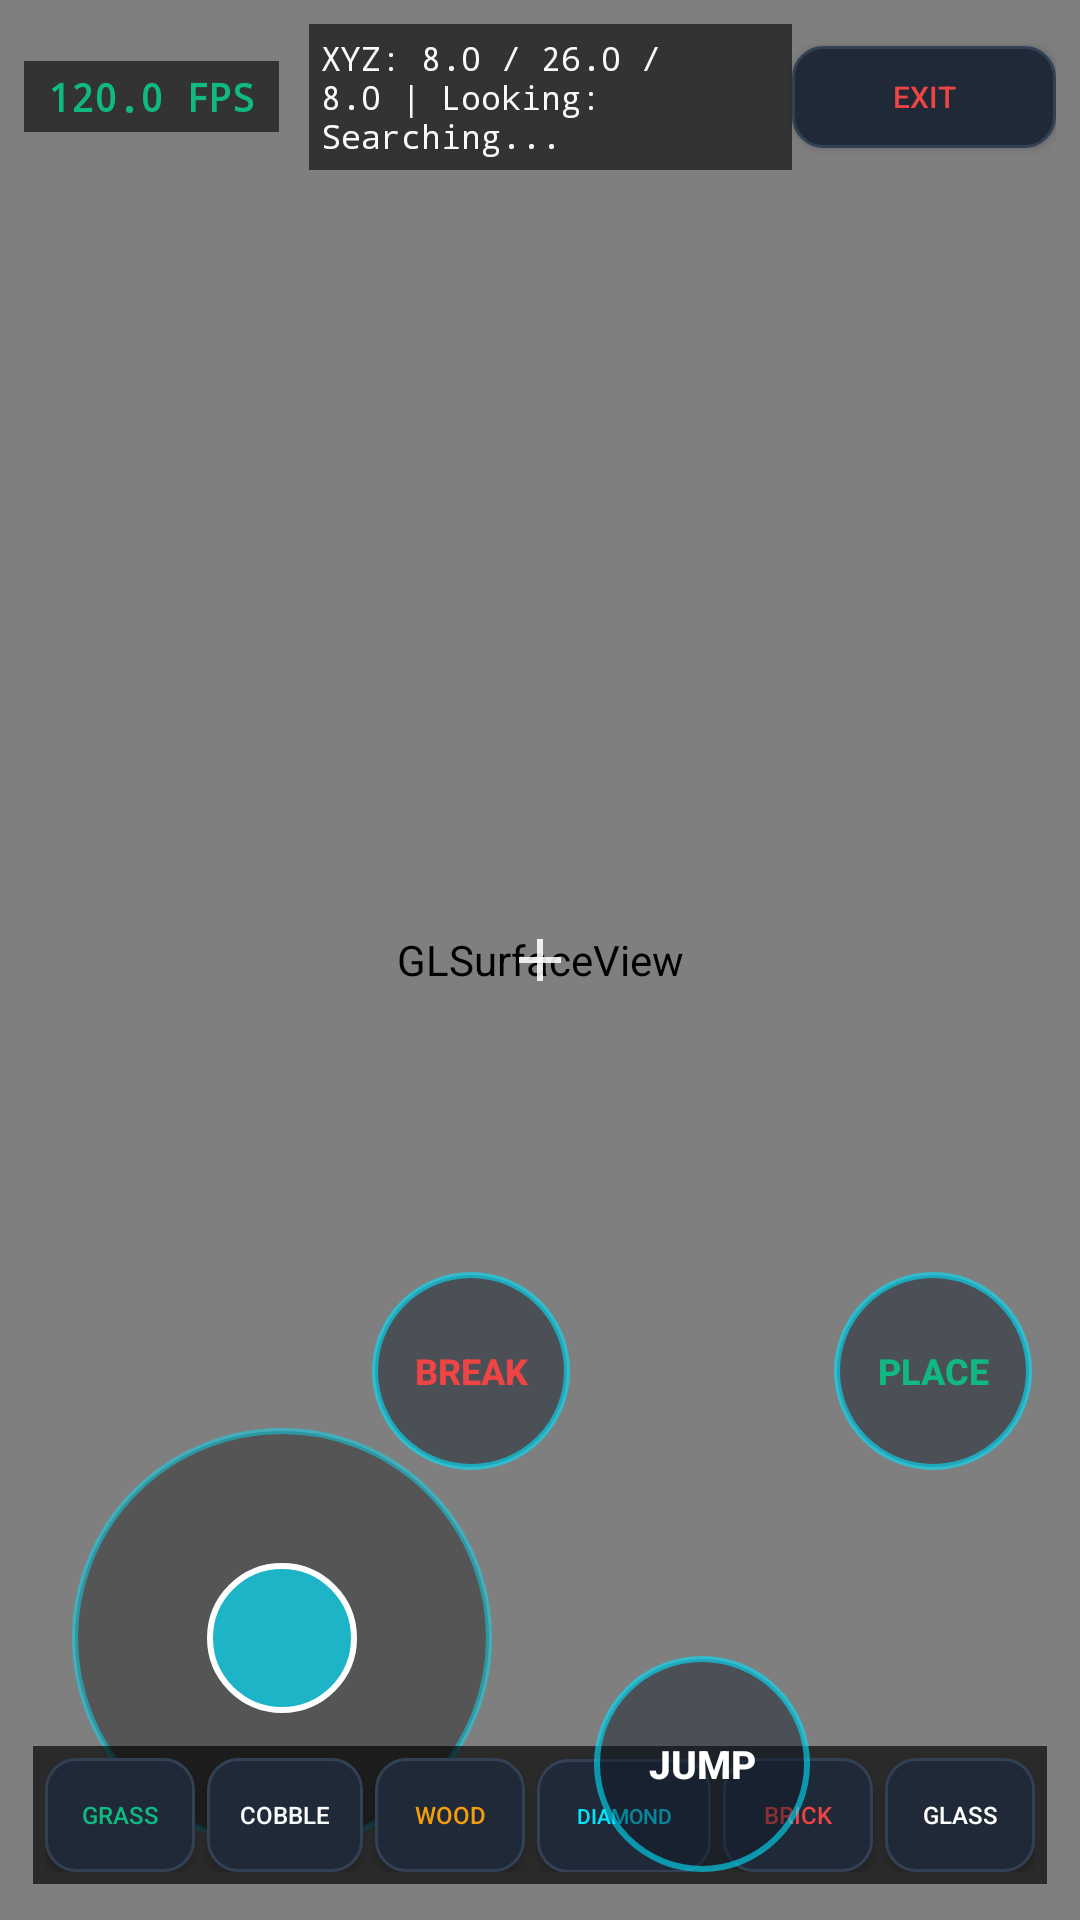

Named icons in this screenshot (1080w x 1920h) and their centers, (x,y):
hud stick thumb: (282,1638)
